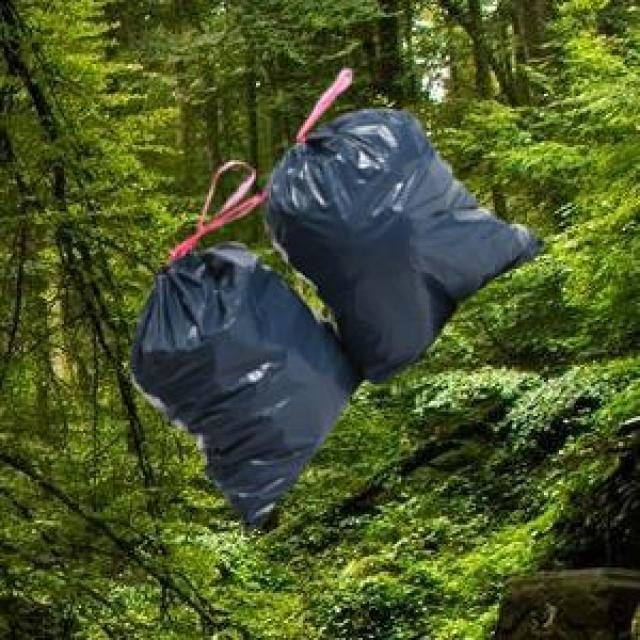Vinyl: (270, 110, 538, 369), (128, 239, 364, 502)
